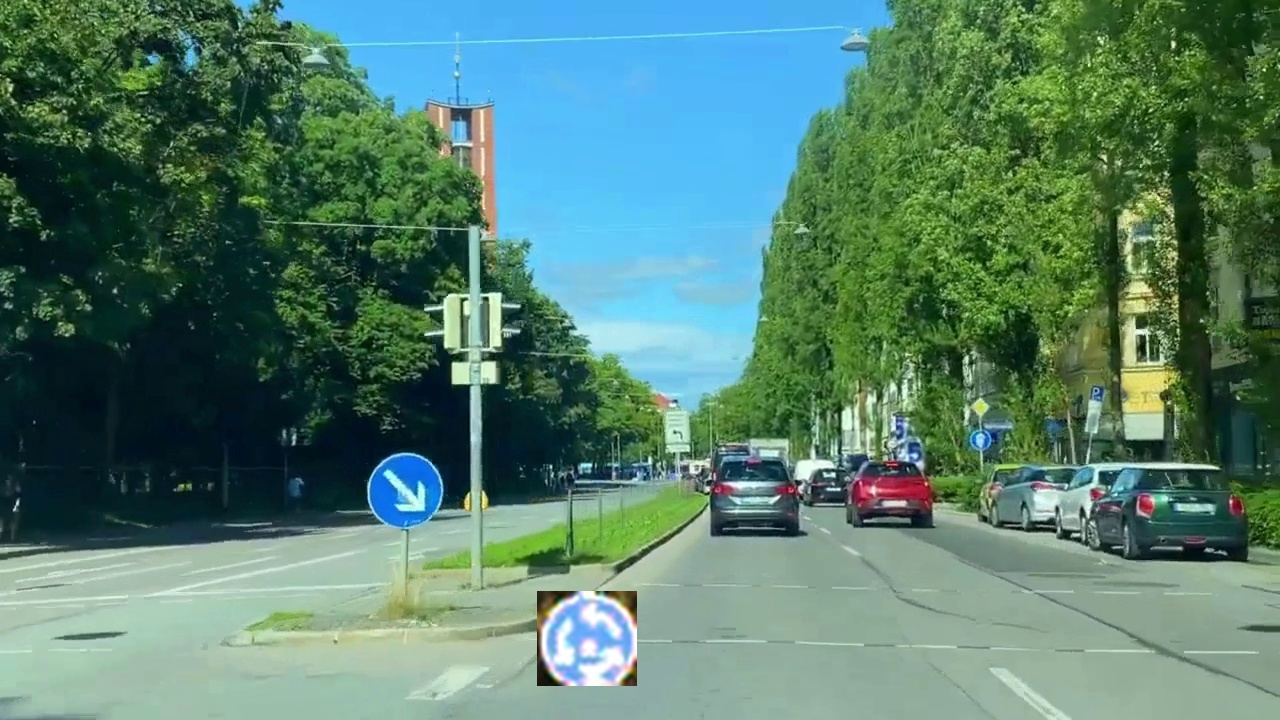Roundabout: (537, 591, 637, 686)
